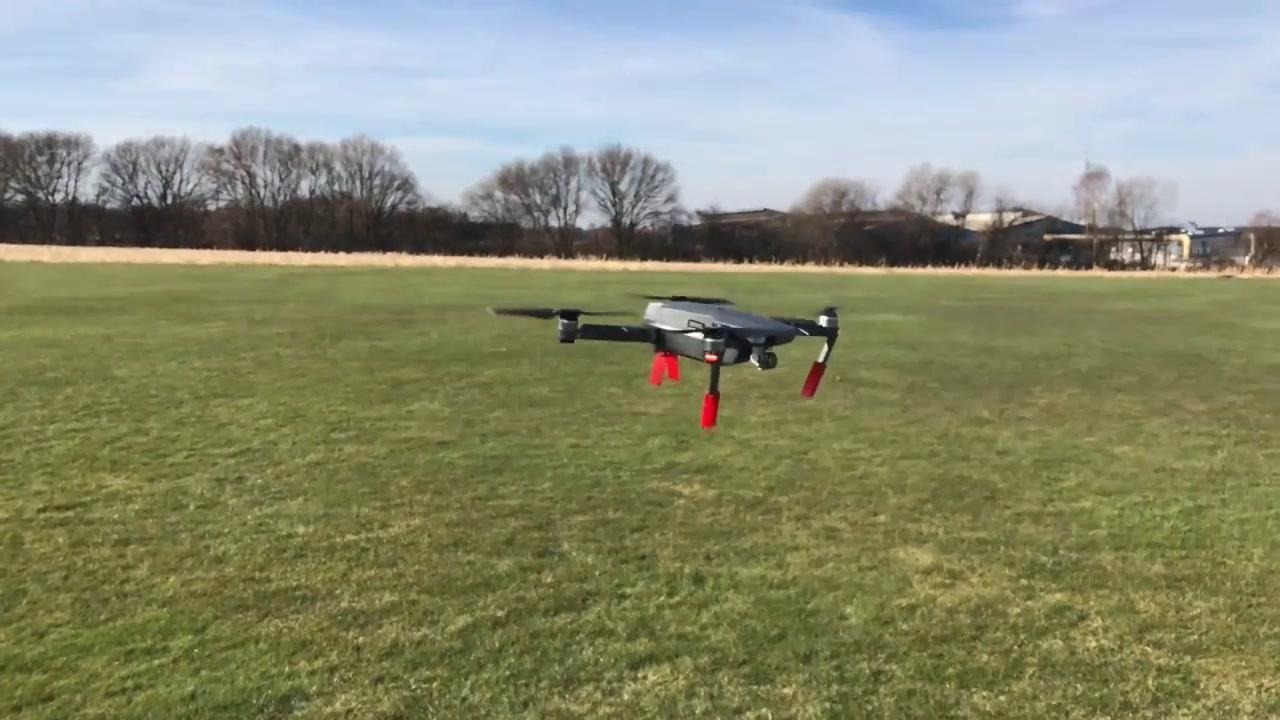UAV: (488, 293, 841, 430)
